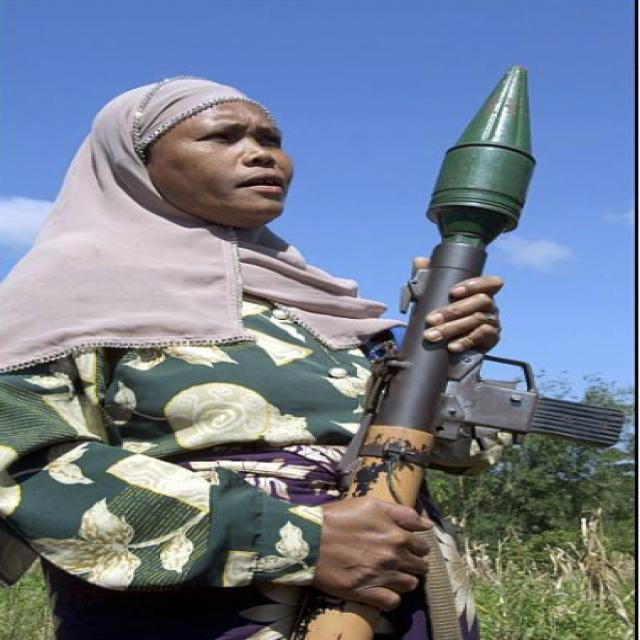bazooka: (290, 58, 541, 640)
